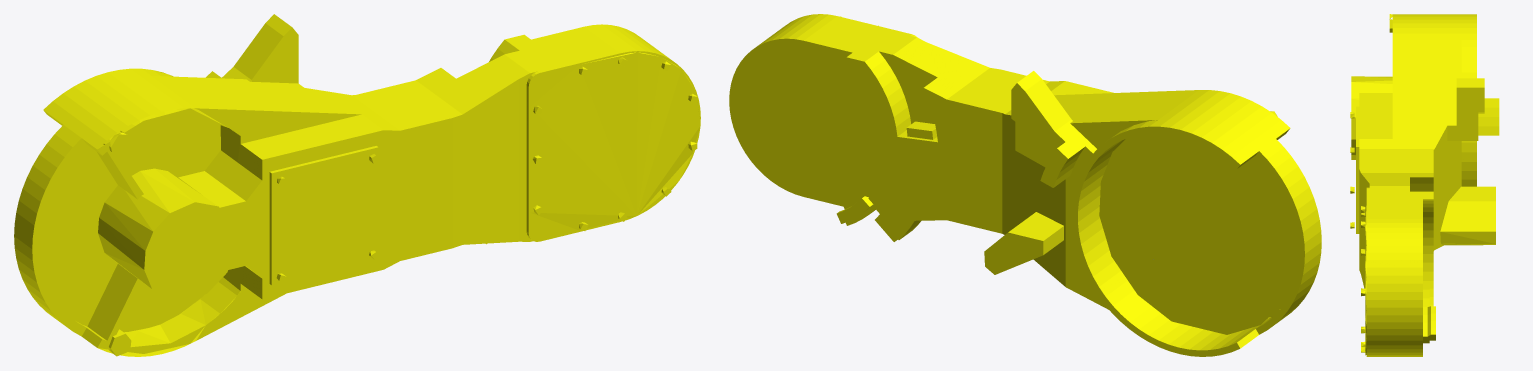
The picture shows the model from 3 angles, left to right: view 1: azimuth 30°, elevation 25°; view 2: azimuth 150°, elevation 25°; view 3: azimuth 270°, elevation 25°; orthographic projection. The views are drawn at different scales.
Visible parts, largest first — view 1: node; view 2: node; view 3: node.
Part boxes in pixels (<box>): node: <box>14,14,700,356</box>; node: <box>729,14,1321,356</box>; node: <box>1350,14,1499,356</box>.
Size of the model in its own units: 868 by 333 by 256.
